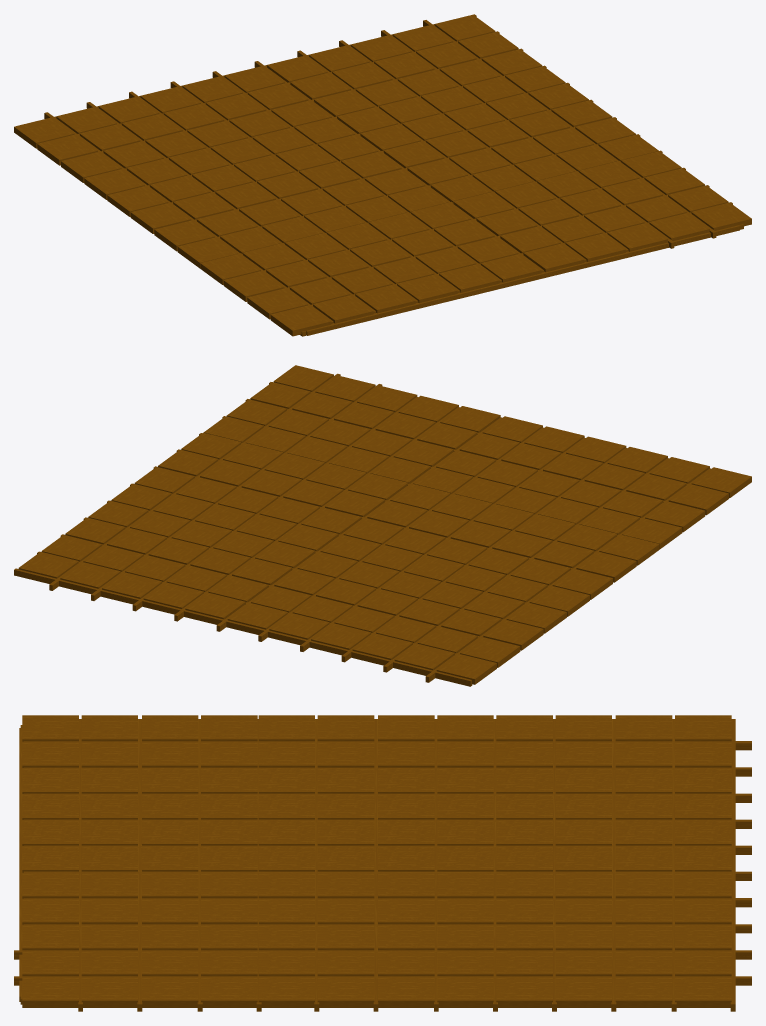
File: doujou_roof.obj
The picture shows the model from 3 angles, top to bottom: view 1: azimuth 30°, elevation 25°; view 2: azimuth 150°, elevation 25°; view 3: azimuth 270°, elevation 25°; orthographic projection. The views are drawn at different scales.
Visible parts, largest first — view 1: 立方体.089; view 2: 立方体.089; view 3: 立方体.089.
Boxes of the visible parts, bbox=[...] form: 立方体.089: bbox=[14, 14, 751, 336]; 立方体.089: bbox=[14, 365, 751, 686]; 立方体.089: bbox=[14, 715, 751, 1011].
Bounding box in the file's own units: 538 × 8.47 × 585.
1 material, 1 textured.
